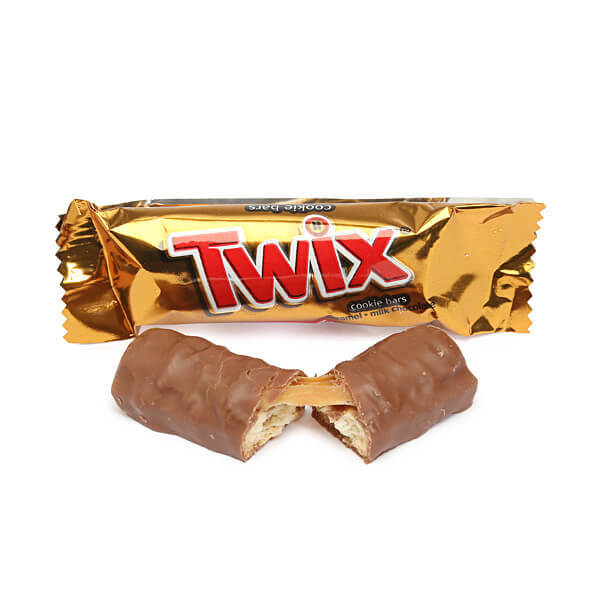twix: (51, 189, 539, 350)
